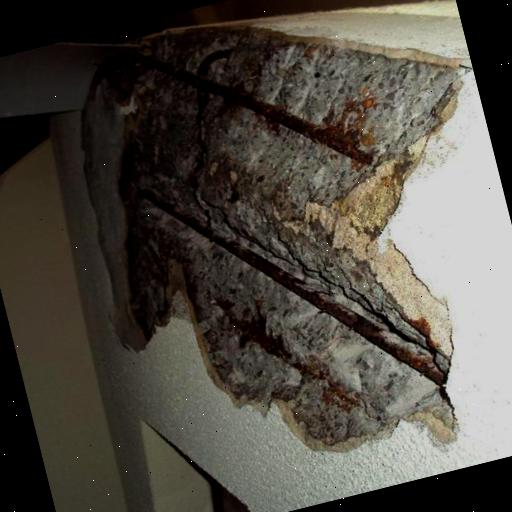spalling: (74, 26, 464, 458)
